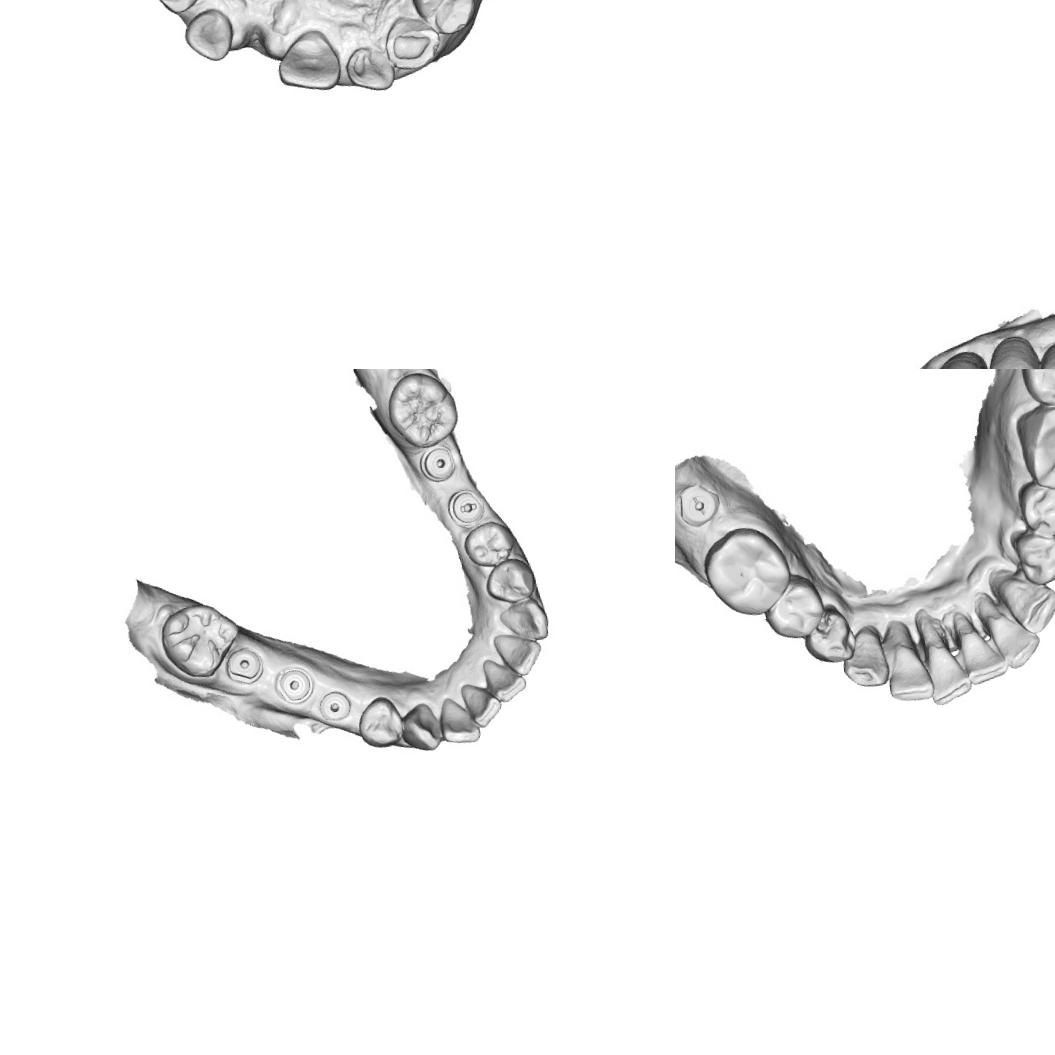canine: (381, 11, 446, 74), (838, 624, 891, 691), (1004, 574, 1055, 636), (496, 594, 553, 648), (398, 699, 443, 755), (925, 347, 991, 369), (145, 0, 218, 17)
implant: (224, 641, 266, 685), (276, 664, 315, 706), (419, 443, 458, 484), (316, 686, 355, 726)
implant_minus: (675, 477, 723, 527), (446, 486, 489, 530)
incisor: (271, 24, 345, 99), (984, 602, 1044, 672), (880, 633, 935, 705), (921, 632, 973, 707), (952, 621, 1007, 689), (180, 8, 238, 66), (342, 38, 398, 98), (490, 624, 545, 681), (433, 692, 482, 748), (480, 653, 528, 706), (457, 678, 502, 732)
molar: (698, 521, 797, 621), (153, 594, 242, 684), (380, 369, 461, 453), (1016, 397, 1055, 497), (1015, 369, 1055, 415)
premolar: (762, 572, 828, 644), (800, 604, 856, 668), (461, 518, 523, 572), (353, 694, 406, 754), (481, 554, 541, 607), (404, 0, 481, 40), (976, 332, 1048, 369), (1012, 525, 1055, 586), (1018, 477, 1055, 540)
